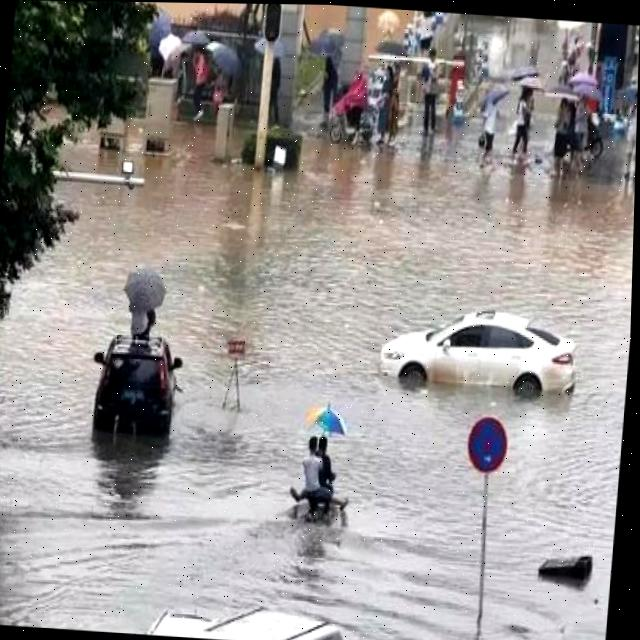civilian: (287, 433, 357, 513), (412, 49, 458, 143), (115, 289, 166, 347), (307, 426, 345, 501), (568, 92, 601, 176), (338, 68, 373, 147), (184, 47, 216, 132), (371, 67, 404, 147), (311, 50, 344, 120), (549, 94, 575, 182), (478, 90, 507, 160), (508, 91, 534, 163), (264, 53, 289, 125)
